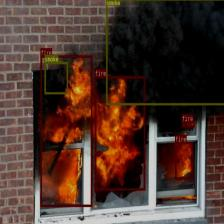fire: (40, 55, 92, 206), (94, 76, 145, 190), (175, 142, 193, 179), (182, 121, 194, 127)
smoke: (105, 0, 223, 104), (44, 62, 68, 94)
